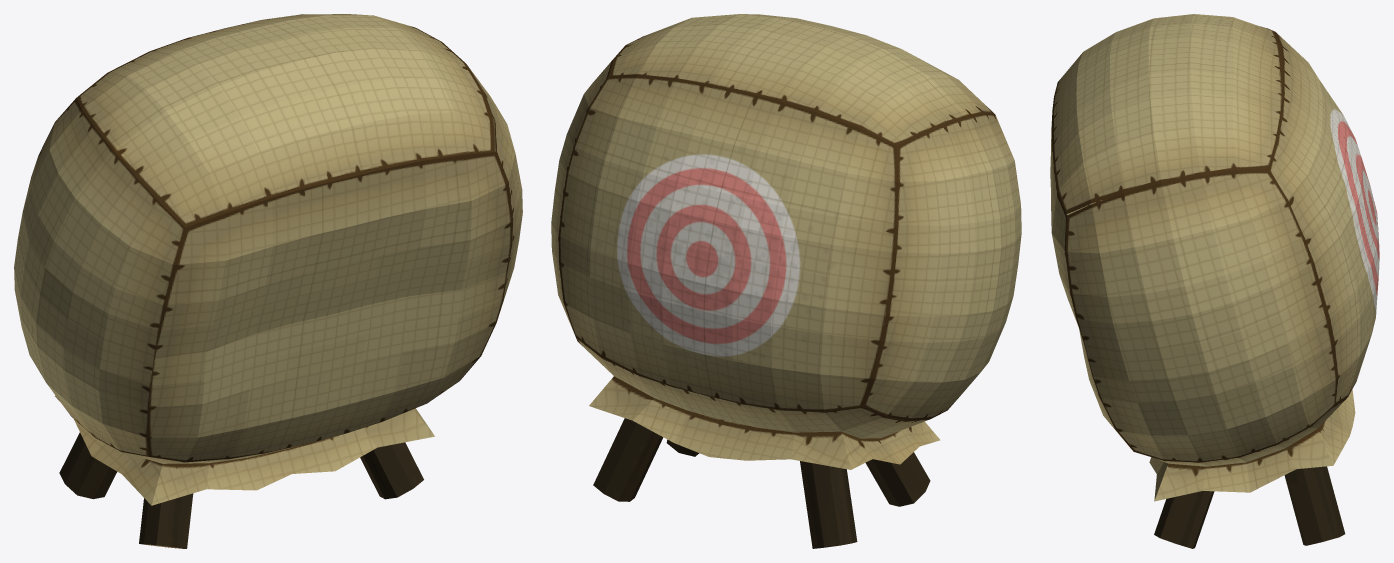
Rendered from Target.fbx.
3 renders of one model, left to right at view 1: azimuth 30°, elevation 25°; view 2: azimuth 150°, elevation 25°; view 3: azimuth 270°, elevation 25°, orthographic. The views are drawn at different scales.
Visible parts, largest first — view 1: Cube.004; view 2: Cube.004; view 3: Cube.004.
Part boxes in pixels (left/top/right/bottom): Cube.004: left=14, top=14, right=522, bottom=548; Cube.004: left=551, top=14, right=1021, bottom=548; Cube.004: left=1050, top=14, right=1379, bottom=548.
Size of the model in its own units: 3249 by 3262 by 2191.
